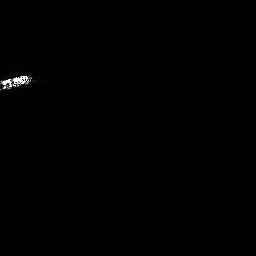ship: (1, 73, 35, 93)
